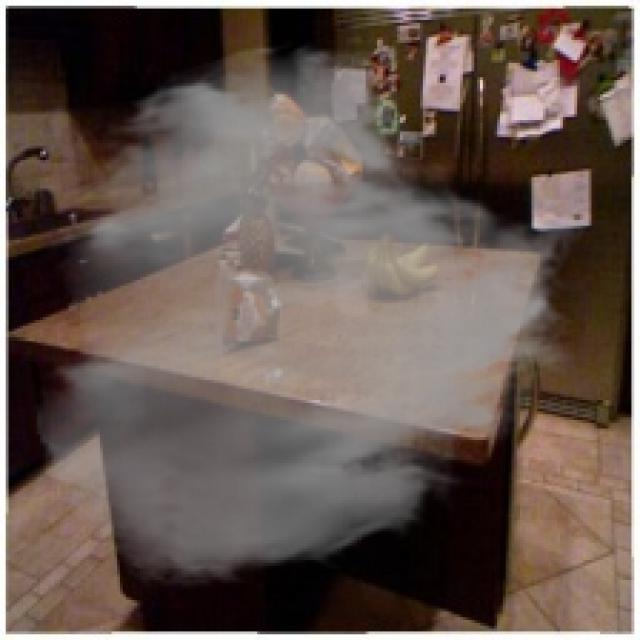smoke: (31, 40, 588, 591)
